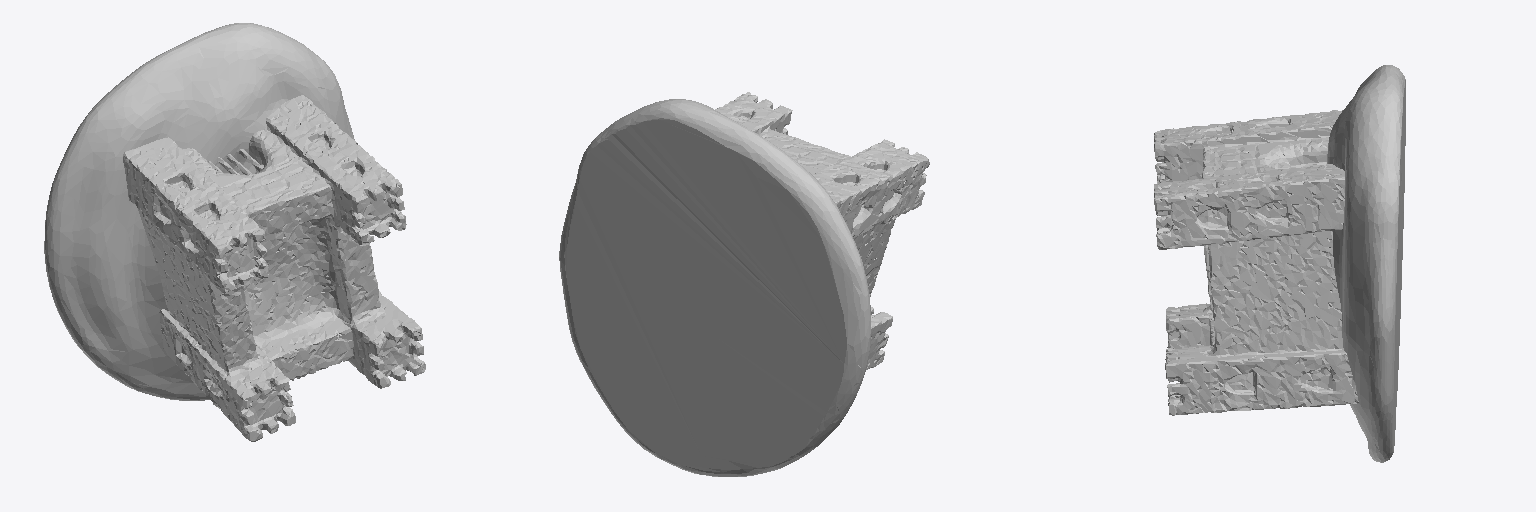
The model's file is medieval_castle.obj.
3 views of the same model, side by side, from view 1: azimuth 30°, elevation 25°; view 2: azimuth 150°, elevation 25°; view 3: azimuth 270°, elevation 25° (orthographic).
Visible parts, largest first — view 1: Castle_Medieval.002; view 2: Castle_Medieval.002; view 3: Castle_Medieval.002.
Boxes of the visible parts, <box> form: Castle_Medieval.002: <box>44,23,425,441</box>; Castle_Medieval.002: <box>559,92,929,476</box>; Castle_Medieval.002: <box>1154,65,1405,462</box>.
Bounding box in the file's own units: 0.8233 × 0.9252 × 0.5764.